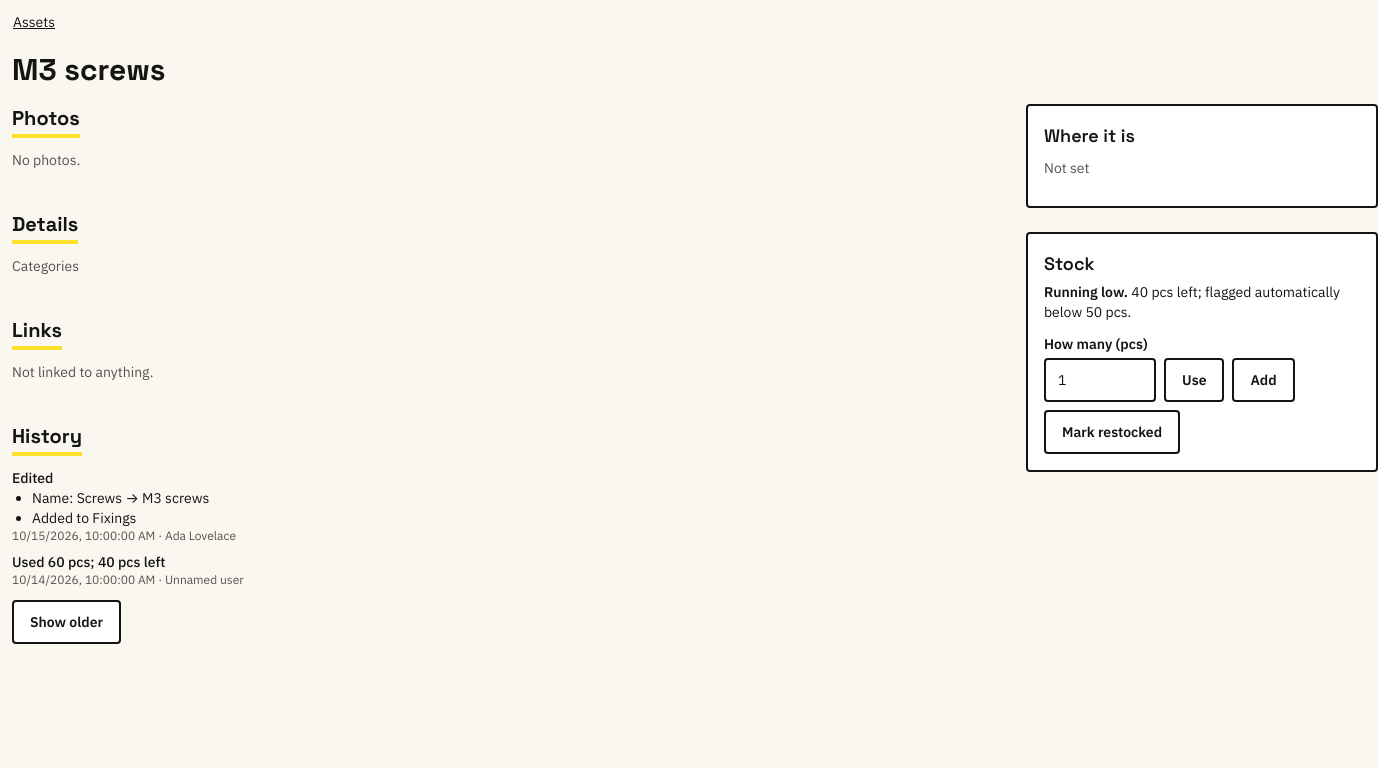
AssetPage history › lists what each edit changed, and pages back through older events
Expected: the text "Edited" is shown, [12, 469, 53, 487]
Expected: the list item "Name: Screws → M3 screws" is shown, [32, 489, 209, 507]
Click the button "Show older": point(66, 622) [12, 600, 121, 644]
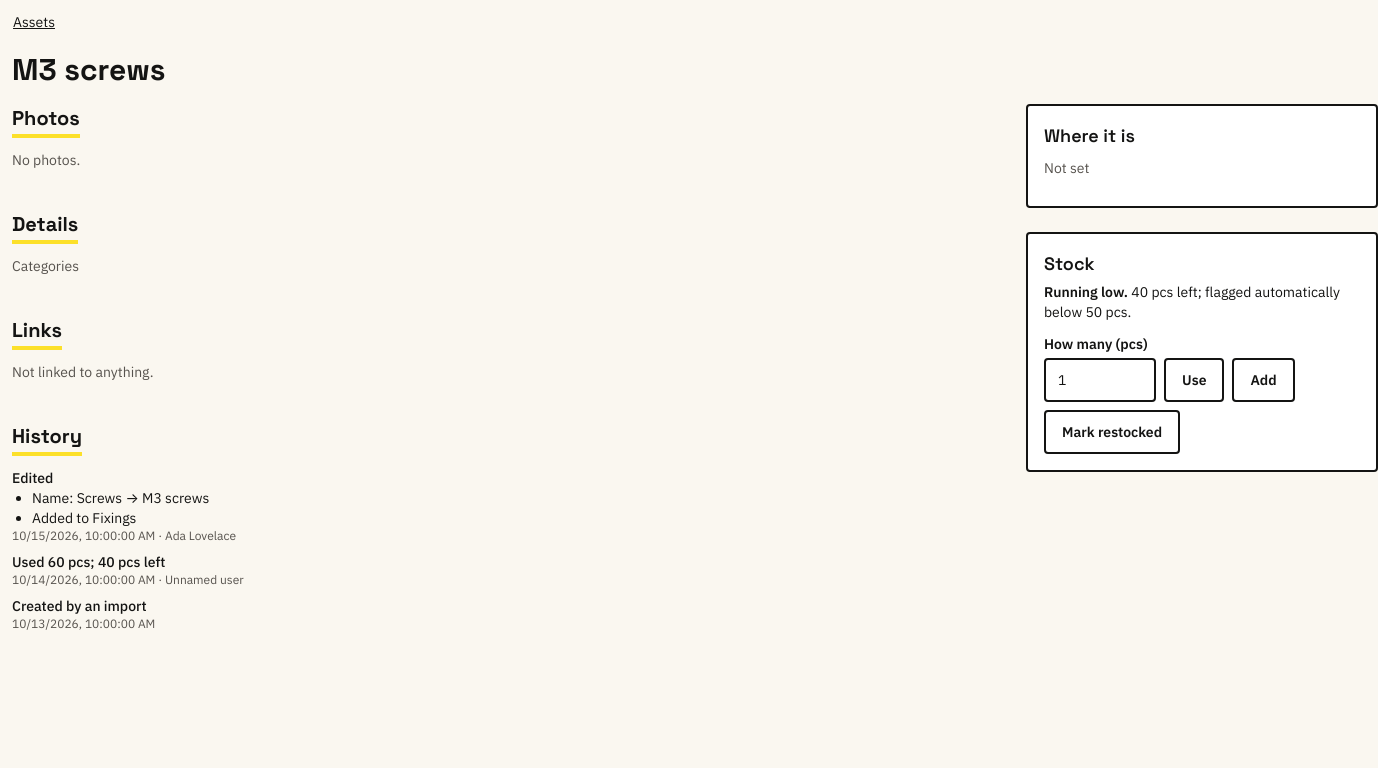
Expected: the text "Used 60 pcs; 40 pcs left" is shown, [12, 553, 165, 571]
Expected: the text "Created by an import" is shown, [12, 597, 146, 615]
Expected: the button "Show older" is gone
